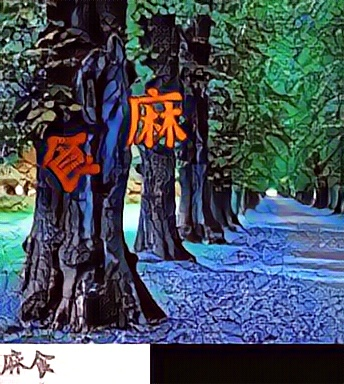C2E9: (123, 87, 188, 153)
CAB3: (40, 131, 105, 197)
